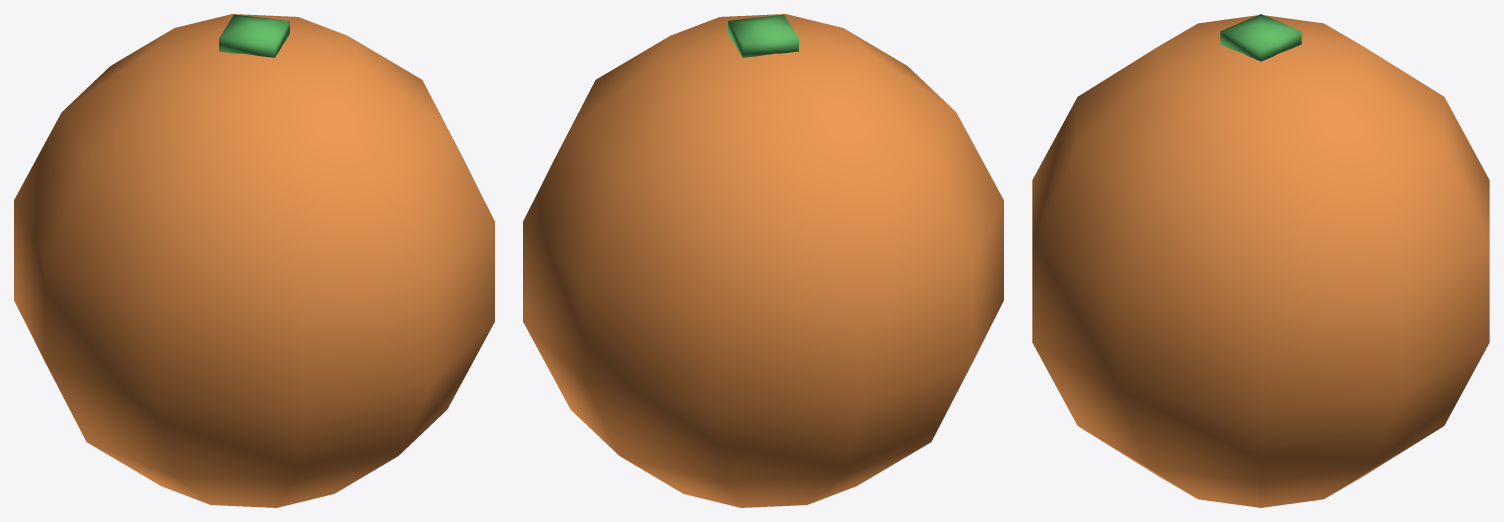
Rendered from CM_Product_Orange.fbx.
3 renders of one model, left to right at view 1: azimuth 30°, elevation 25°; view 2: azimuth 150°, elevation 25°; view 3: azimuth 270°, elevation 25°, orthographic.
Visible parts, largest first — view 1: Orange; view 2: Orange; view 3: Orange.
Part boxes in pixels (x1=…): Orange: x1=14, y1=14, x2=494, y2=507; Orange: x1=523, y1=14, x2=1003, y2=507; Orange: x1=1032, y1=14, x2=1489, y2=507.
Bounding box in the file's own units: 0.8189 × 0.7789 × 0.865.
1 material, 1 textured.
